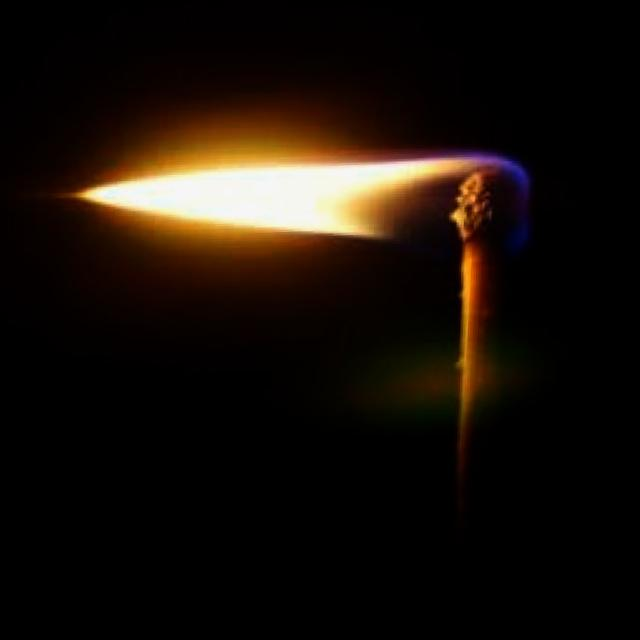helmet: (73, 150, 537, 259)
